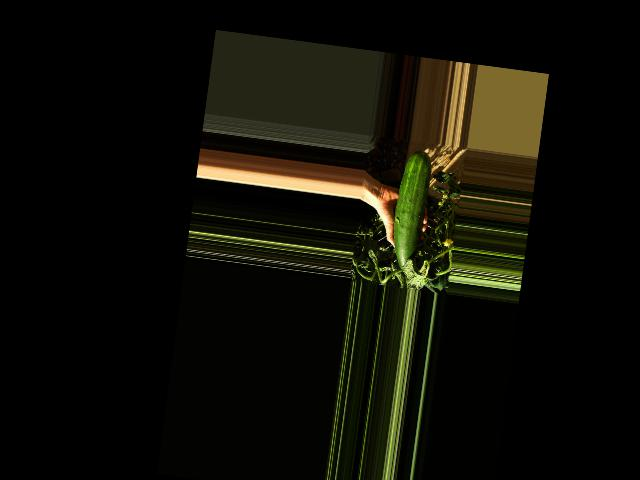cucumber: (387, 148, 433, 273)
